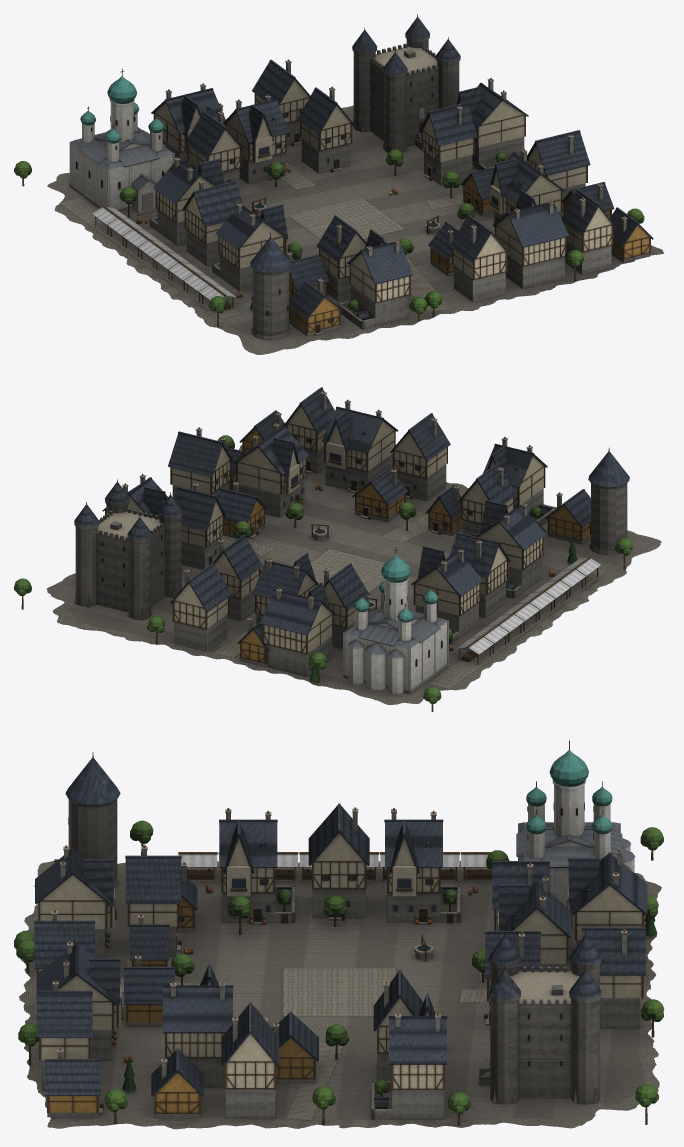
The model's file is kingdoms-town-big-b-easteurope.glb.
3 views of the same model, one above another, from view 1: azimuth 30°, elevation 25°; view 2: azimuth 150°, elevation 25°; view 3: azimuth 270°, elevation 25° (orthographic). The views are drawn at different scales.
Parts seen in each view (by area): view 1: LOD0; view 2: LOD0; view 3: LOD0.
Boxes of the visible parts, box(x1,y1,x2,y2) form: LOD0: box(14, 14, 663, 354); LOD0: box(14, 387, 661, 711); LOD0: box(14, 740, 664, 1129).
Size of what is drawn, in the model's own units: 8.06 by 2.26 by 8.12.
Materials: 3 (3 with a texture image).
